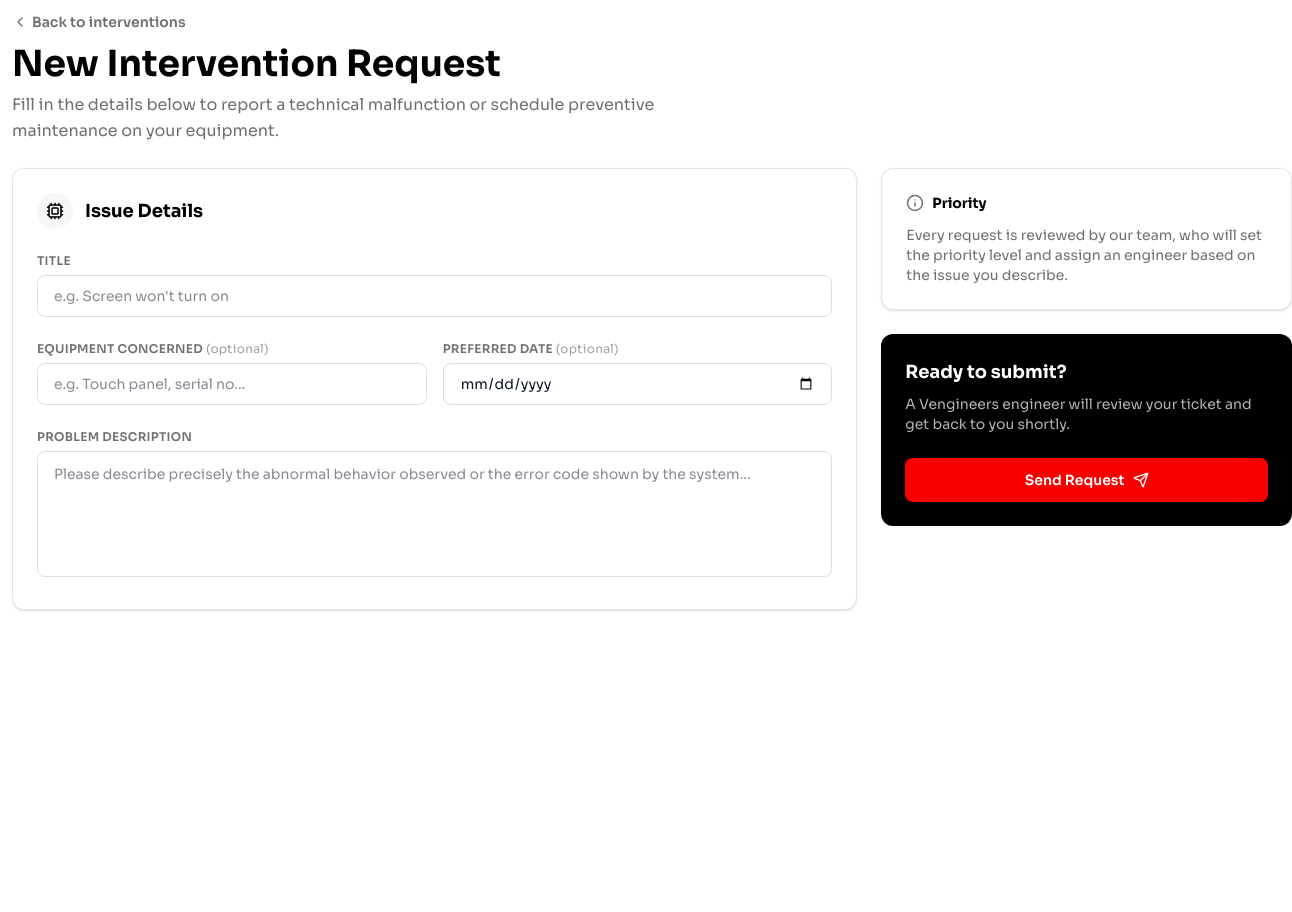
InterventionNew › displays a general error for non-422 failures
This screenshot has width=1292, height=912.
In the field labelled "Title": (435, 296) [37,275,832,317], type "Test"
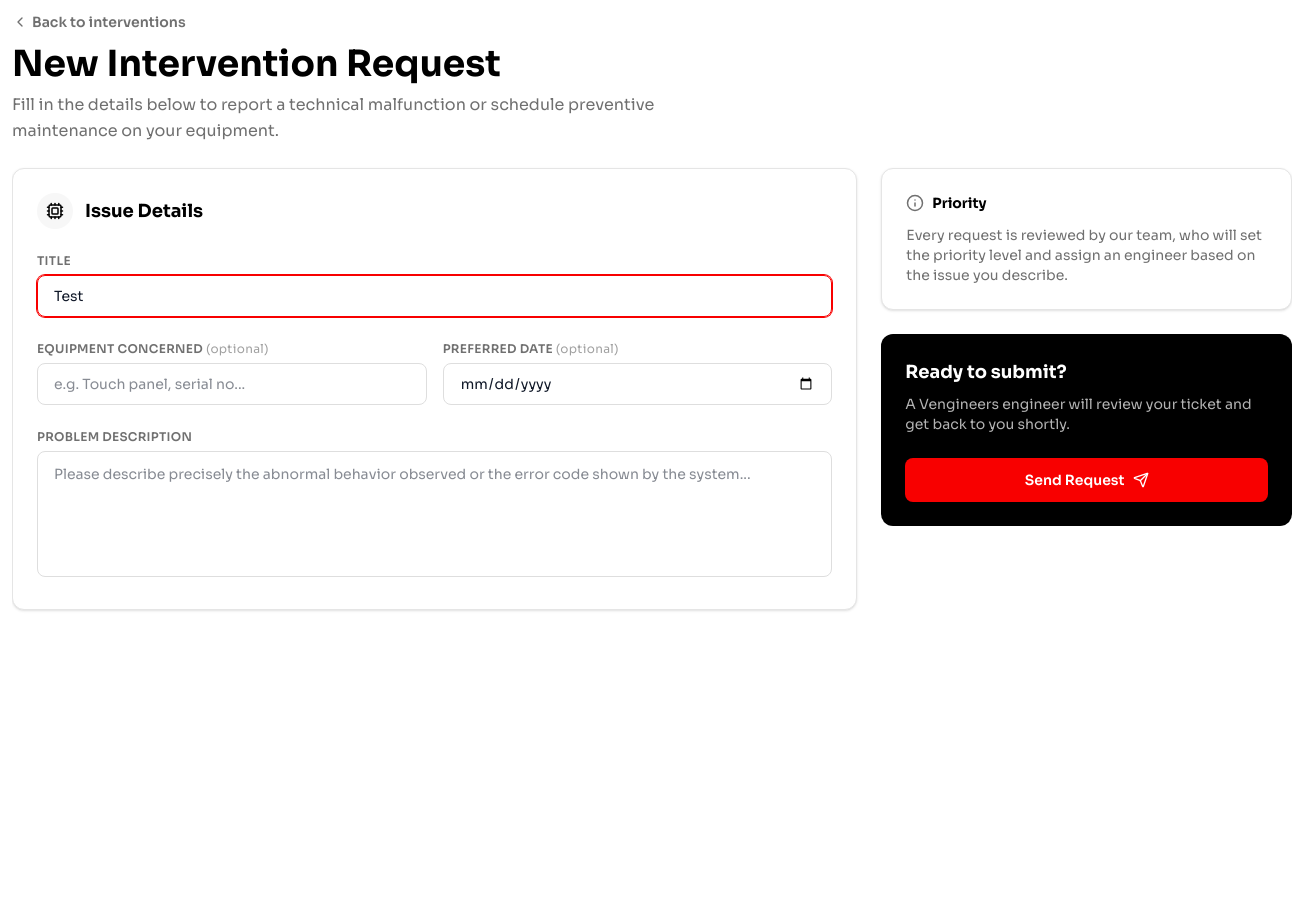
In the text box labelled "Problem Description": (435, 514) [37,451,832,577], type "Test"
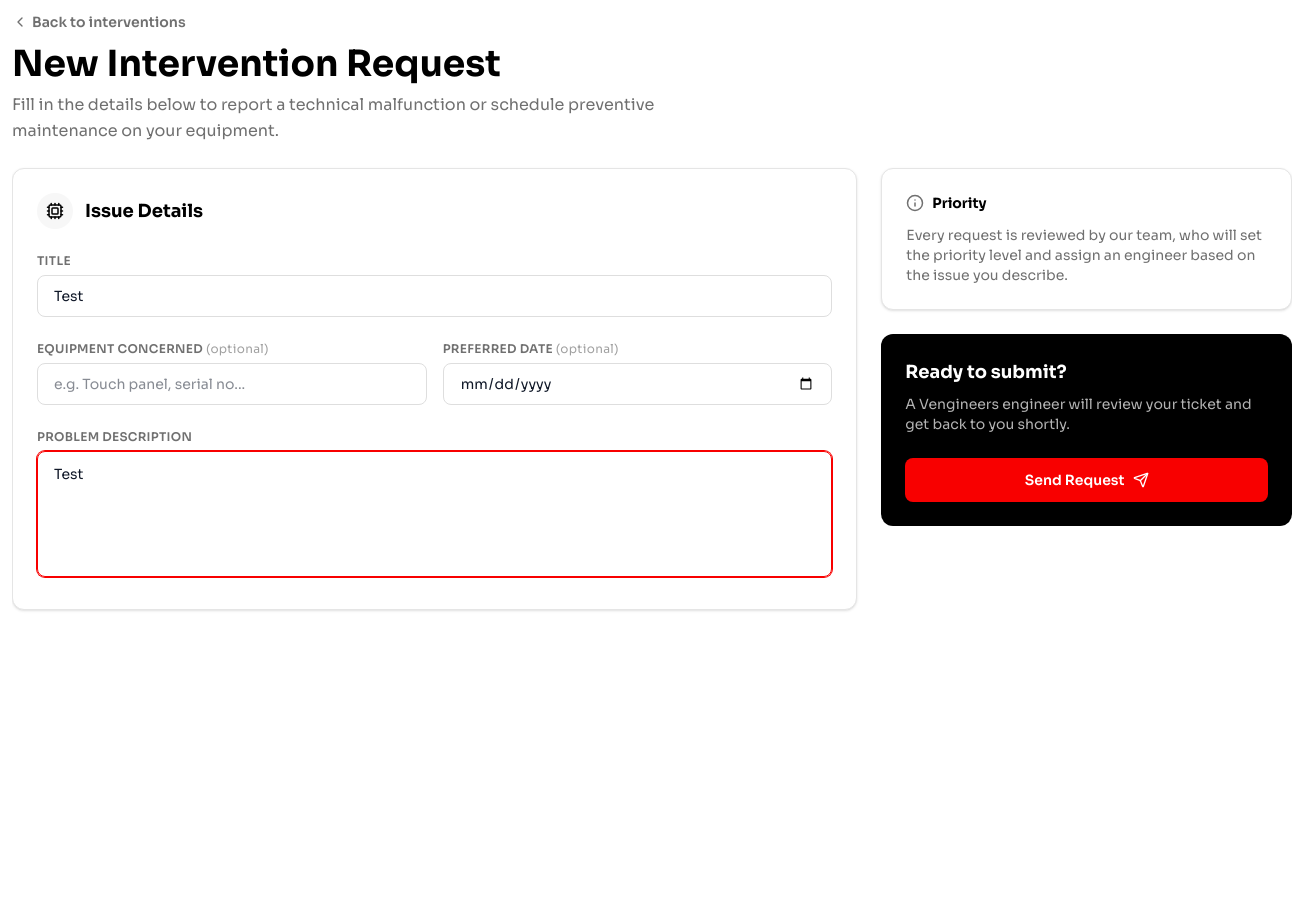
Click the button "Send Request": (1087, 480) [905,458,1268,502]
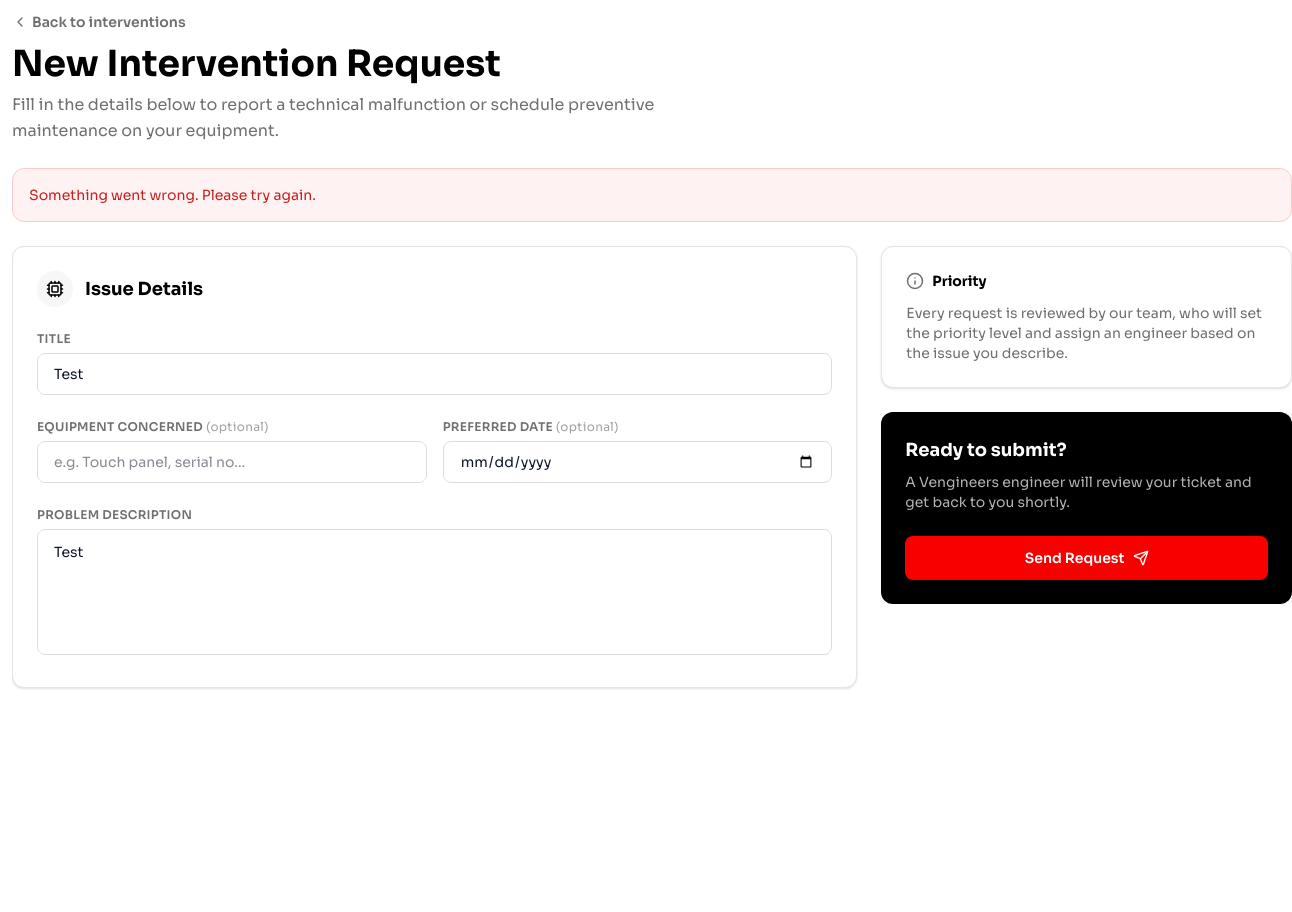
Result: the text "Something went wrong. Please try again." is shown at [12,168,1291,222]
